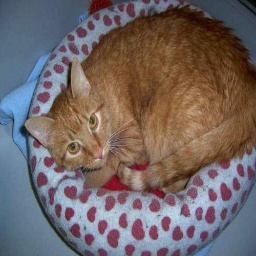cat: (37, 15, 256, 193)
